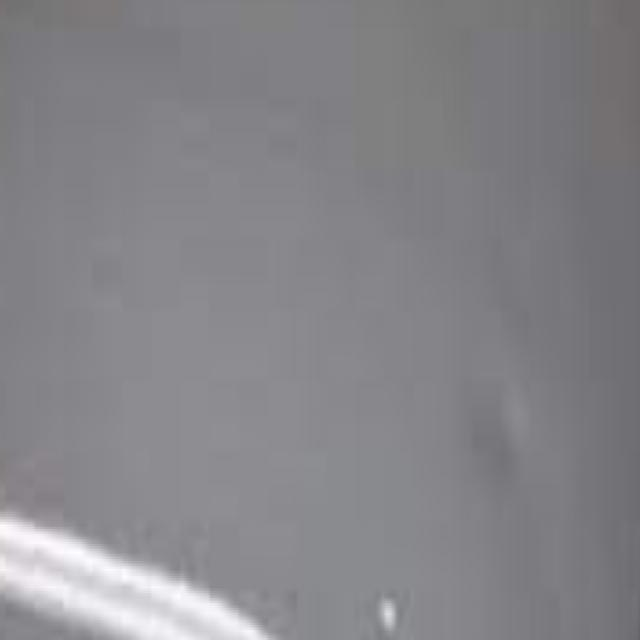dents: (455, 330, 576, 578), (74, 227, 146, 342), (259, 81, 312, 182), (172, 86, 214, 190)
